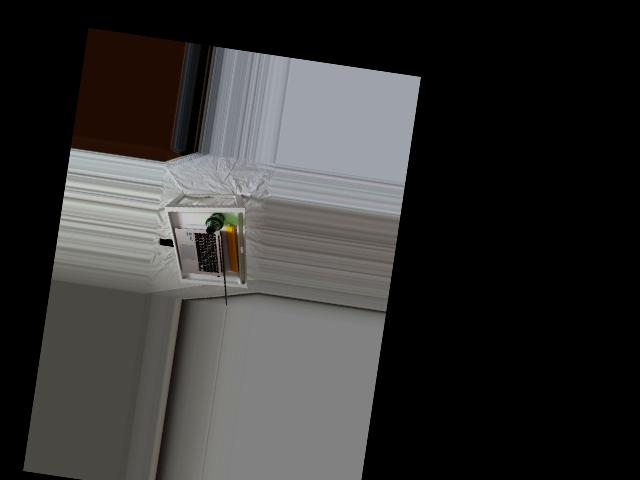beer: (204, 211, 225, 235)
